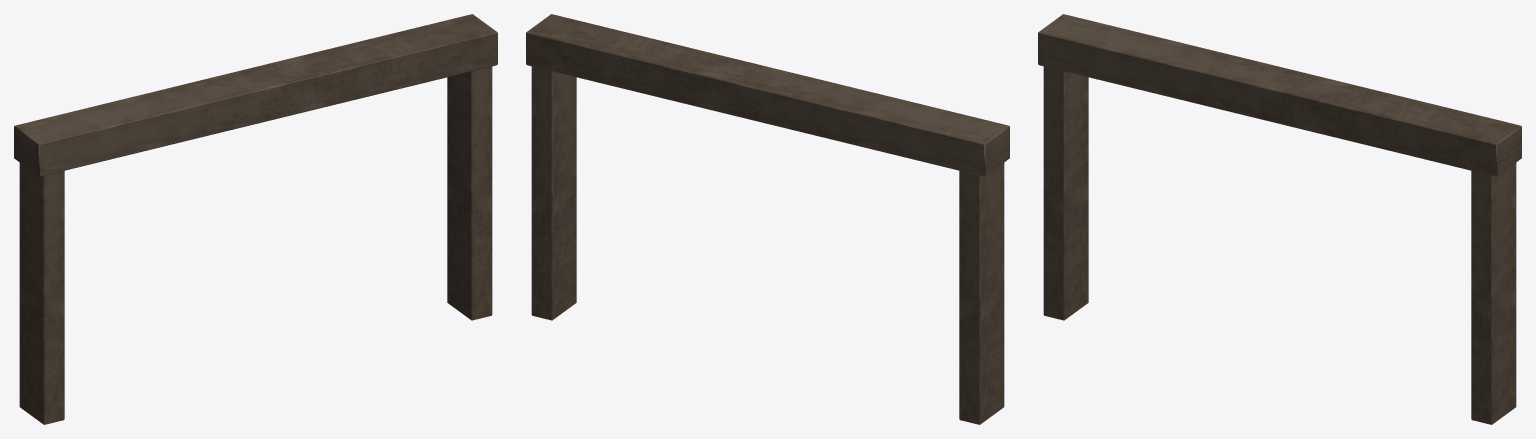
File: BW_Merchant01_Shopfront.fbx
3 renders of one model, left to right at view 1: azimuth 30°, elevation 25°; view 2: azimuth 150°, elevation 25°; view 3: azimuth 330°, elevation 25°, orthographic.
Parts seen in each view (by area): view 1: BW_Merchant01_Shopfront; view 2: BW_Merchant01_Shopfront; view 3: BW_Merchant01_Shopfront.
Boxes of the visible parts, left/top/right/bottom form: BW_Merchant01_Shopfront: left=14, top=14, right=497, bottom=424; BW_Merchant01_Shopfront: left=526, top=14, right=1009, bottom=424; BW_Merchant01_Shopfront: left=1038, top=14, right=1521, bottom=424.
Bounding box in the file's own units: 2.6 × 1.53 × 0.25.
